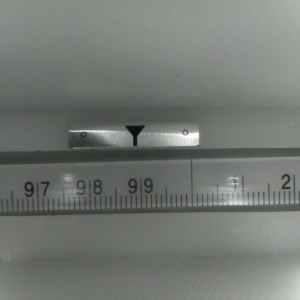2: (280, 173, 290, 189)
7: (39, 181, 49, 196)
8: (92, 179, 102, 195)
9: (143, 177, 153, 194), (127, 177, 137, 194), (23, 181, 33, 197), (74, 180, 83, 195)
finger: (123, 125, 146, 147)
